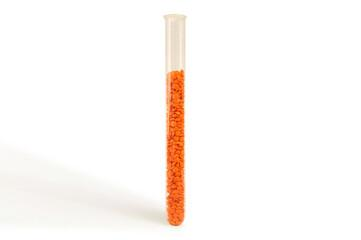Test tube: (149, 4, 198, 227)
